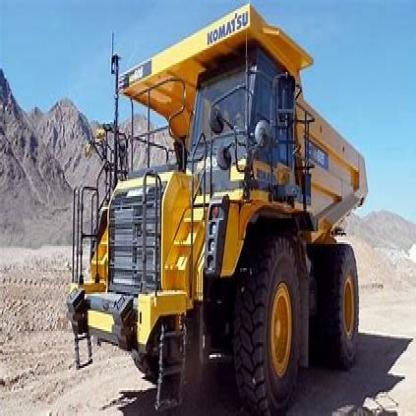dump_truck: (68, 0, 371, 414)
